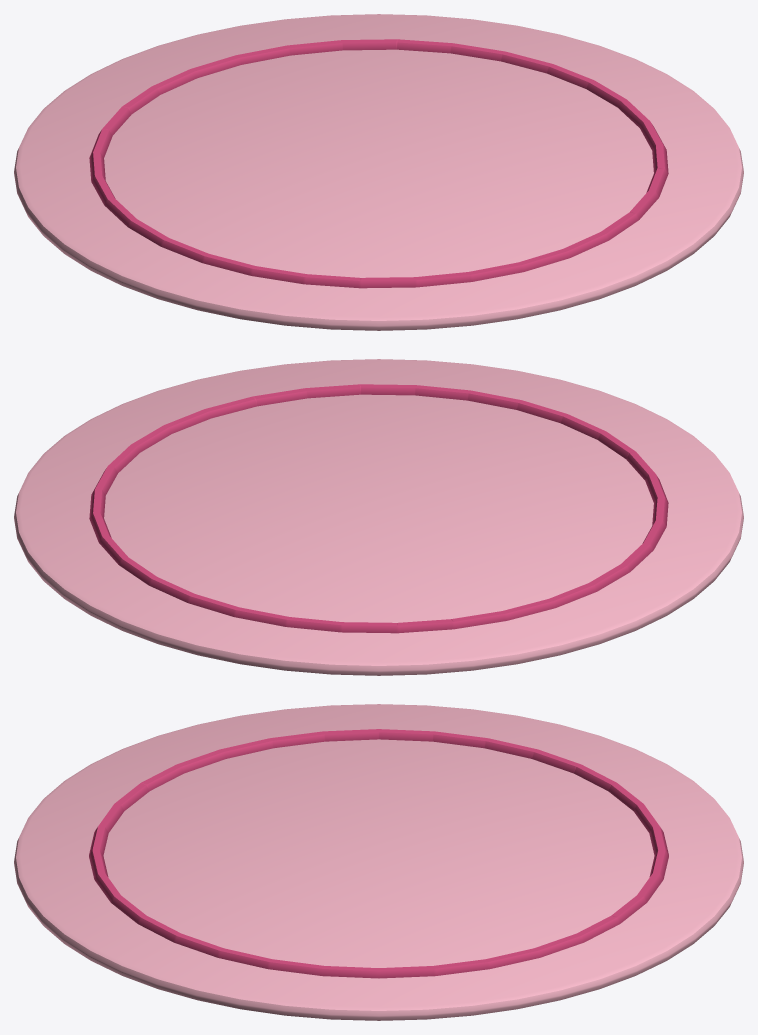
Rendered from tapete_banheiro_redondo_rosa.glb.
3 views of the same model, one above another, from view 1: azimuth 30°, elevation 25°; view 2: azimuth 150°, elevation 25°; view 3: azimuth 270°, elevation 25° (orthographic).
Visible parts, largest first — view 1: tapete_banheiro_redondo_rosa; view 2: tapete_banheiro_redondo_rosa; view 3: tapete_banheiro_redondo_rosa.
Part boxes in pixels (left/top/right/bottom): tapete_banheiro_redondo_rosa: left=14, top=14, right=743, bottom=330; tapete_banheiro_redondo_rosa: left=14, top=359, right=743, bottom=675; tapete_banheiro_redondo_rosa: left=14, top=704, right=743, bottom=1020.
Bounding box in the file's own units: 0.8 × 0.0229 × 0.8.
Materials: 1 (1 with a texture image).
